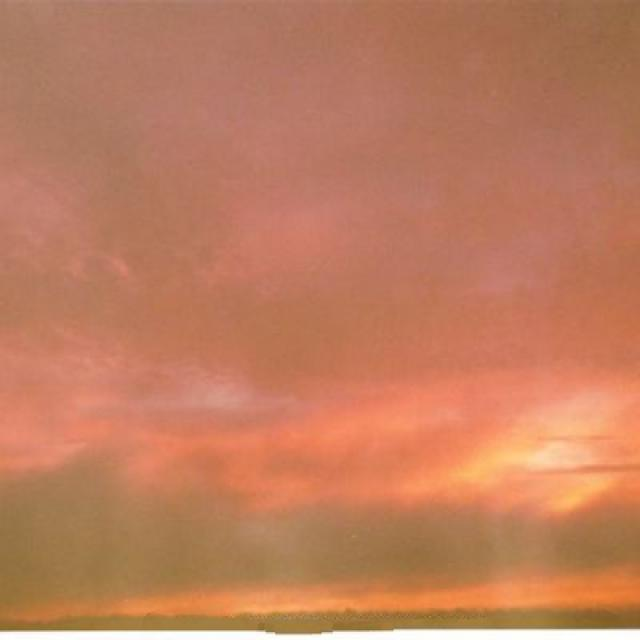As: (1, 1, 640, 622)
